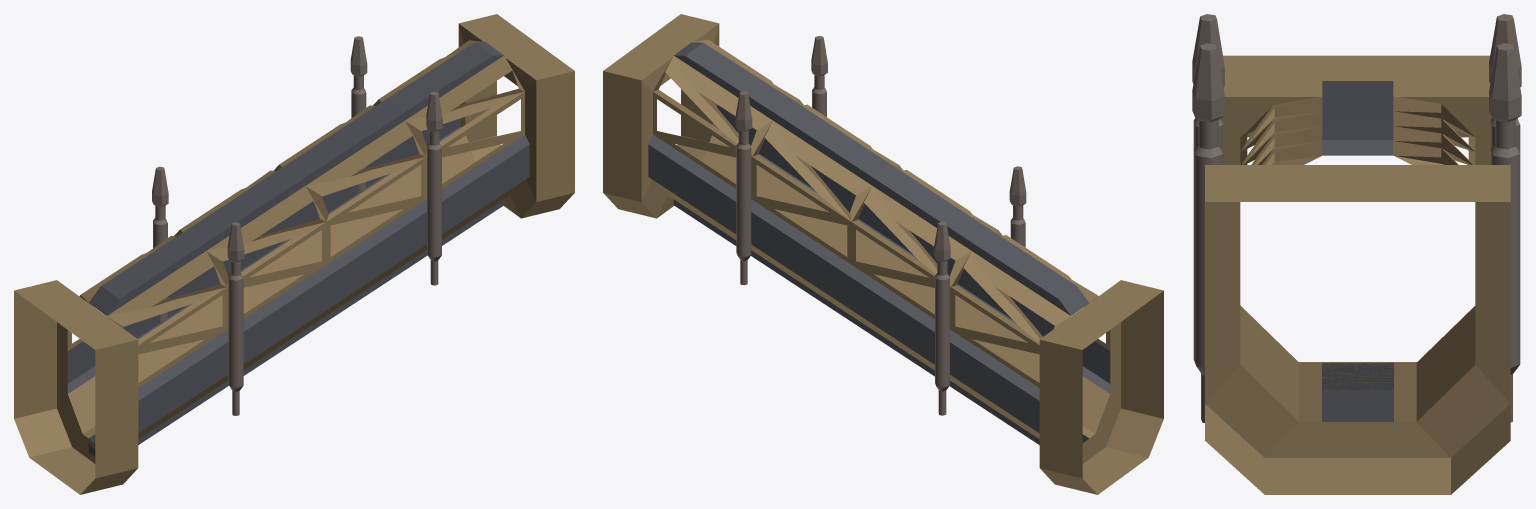
File: MOD_BuildingConnecter.fbx
3 views of the same model, side by side, from view 1: azimuth 30°, elevation 25°; view 2: azimuth 150°, elevation 25°; view 3: azimuth 270°, elevation 25° (orthographic). The views are drawn at different scales.
Parts seen in each view (by area): view 1: MOD_BuildingConnecter; view 2: MOD_BuildingConnecter; view 3: MOD_BuildingConnecter.
Part boxes in pixels (<box>): MOD_BuildingConnecter: <box>14,14,574,494</box>; MOD_BuildingConnecter: <box>603,14,1163,494</box>; MOD_BuildingConnecter: <box>1192,14,1521,494</box>.
Bounding box in the file's own units: 5527 × 3591 × 1671.
